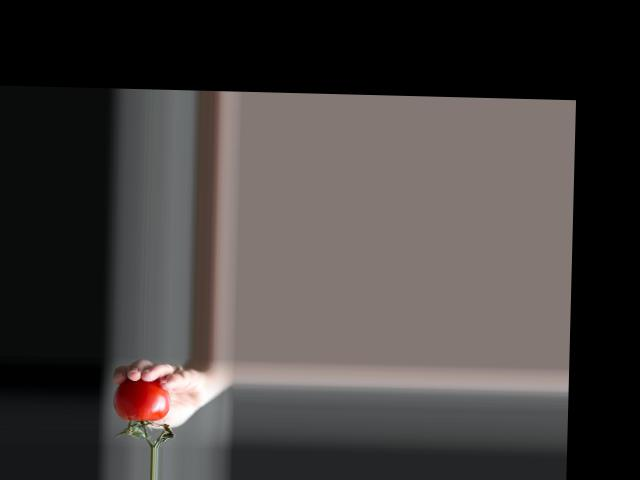tomato: (113, 377, 171, 423)
